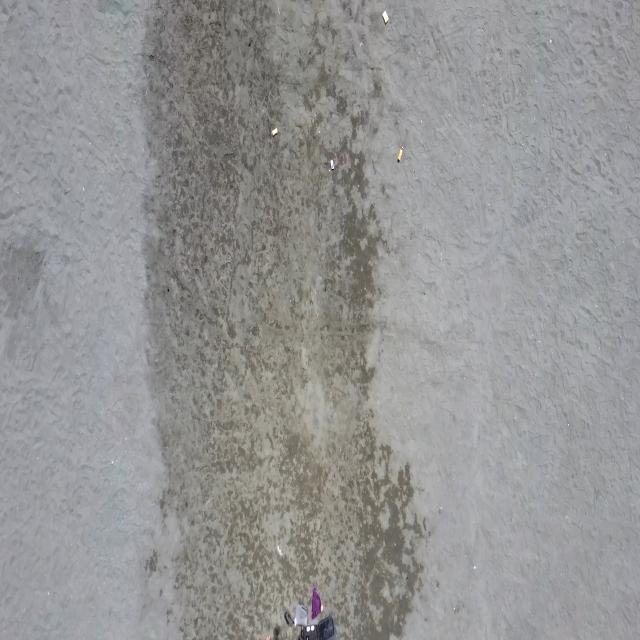retort-pouch: (396, 146, 404, 164), (381, 9, 389, 25), (272, 126, 280, 140), (329, 158, 335, 171)
